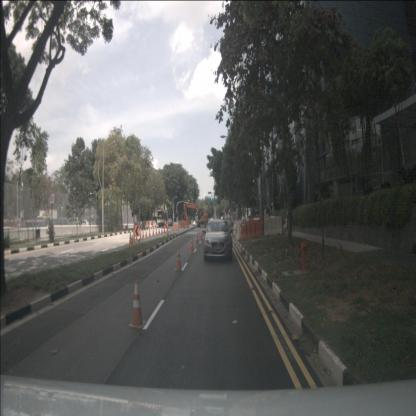movable_object-barrier: (241, 220, 263, 240), (262, 218, 283, 236), (236, 222, 242, 241), (153, 220, 156, 228), (148, 221, 152, 227), (151, 221, 154, 228), (146, 221, 149, 228)
movable_object-trafficcone: (129, 280, 146, 330), (175, 248, 183, 271), (189, 236, 195, 253), (130, 234, 134, 246), (132, 232, 136, 243), (166, 227, 170, 238), (148, 228, 152, 238), (129, 233, 132, 245), (135, 233, 139, 242), (139, 229, 142, 240), (199, 229, 202, 240), (142, 229, 145, 239), (196, 234, 199, 244), (144, 229, 147, 238), (152, 228, 155, 236), (201, 229, 204, 237), (163, 226, 166, 233), (155, 228, 158, 235), (161, 226, 163, 234), (158, 227, 160, 234)
vehicle-car: (203, 219, 233, 264), (35, 217, 63, 232), (60, 217, 82, 229), (53, 218, 74, 230), (74, 219, 92, 229), (166, 218, 174, 228)
vehicle-truck: (2, 215, 26, 233), (157, 209, 168, 228)
